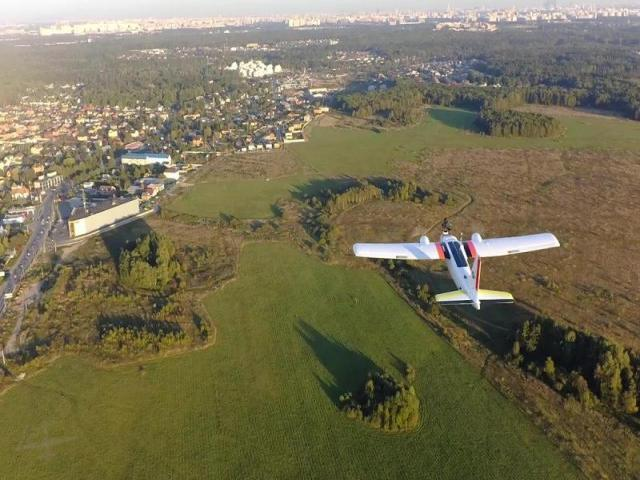hedef: (351, 229, 562, 315)
